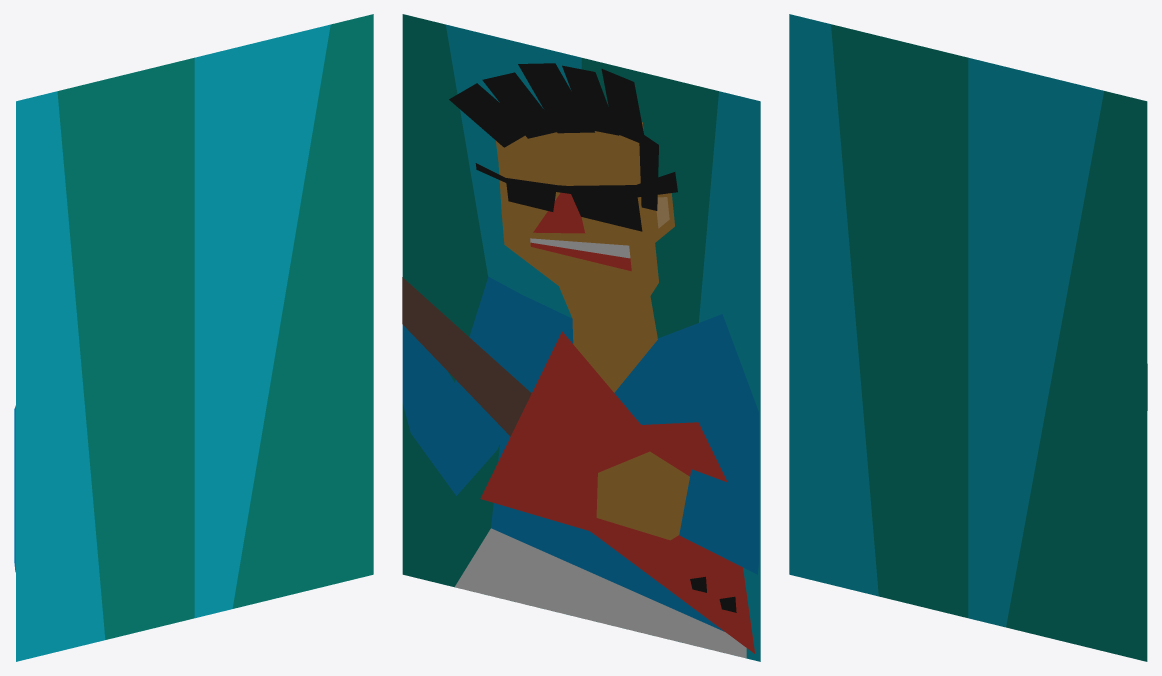
Rendered from poster.fbx.
The picture shows the model from 3 angles, left to right: view 1: azimuth 30°, elevation 25°; view 2: azimuth 150°, elevation 25°; view 3: azimuth 330°, elevation 25°; orthographic projection.
Parts seen in each view (by area): view 1: Rock_Band_Poster_Plane.002; view 2: Rock_Band_Poster_Plane.002; view 3: Rock_Band_Poster_Plane.002.
Part boxes in pixels (<box>): Rock_Band_Poster_Plane.002: <box>14,14,373,661</box>; Rock_Band_Poster_Plane.002: <box>402,14,760,661</box>; Rock_Band_Poster_Plane.002: <box>789,14,1147,661</box>.
Size of the model in its own units: 996 by 1491 by 8.
